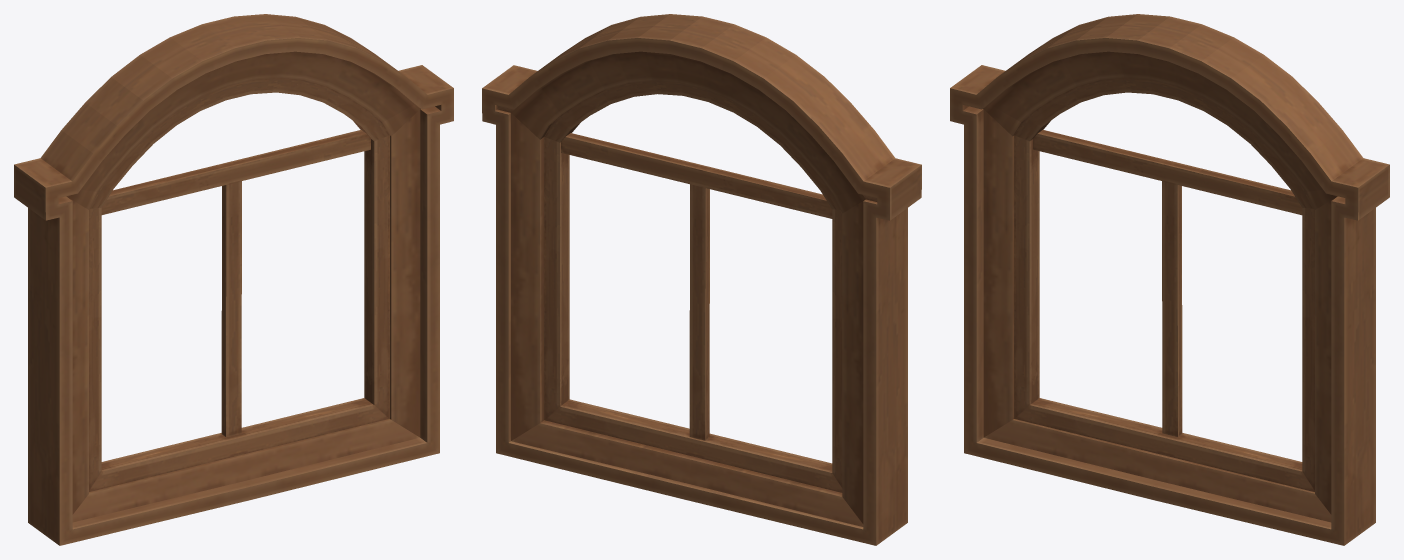
The model's file is mdl_window_01.fbx.
3 renders of one model, left to right at view 1: azimuth 30°, elevation 25°; view 2: azimuth 150°, elevation 25°; view 3: azimuth 330°, elevation 25°, orthographic.
Visible parts, largest first — view 1: window02; view 2: window02; view 3: window02.
Boxes of the visible parts, box(x1,y1,x2,y2) form: window02: box(14, 14, 453, 545); window02: box(482, 14, 921, 545); window02: box(950, 14, 1389, 545).
Bounding box in the file's own units: 248 × 265 × 34.67.
1 material, 1 textured.
